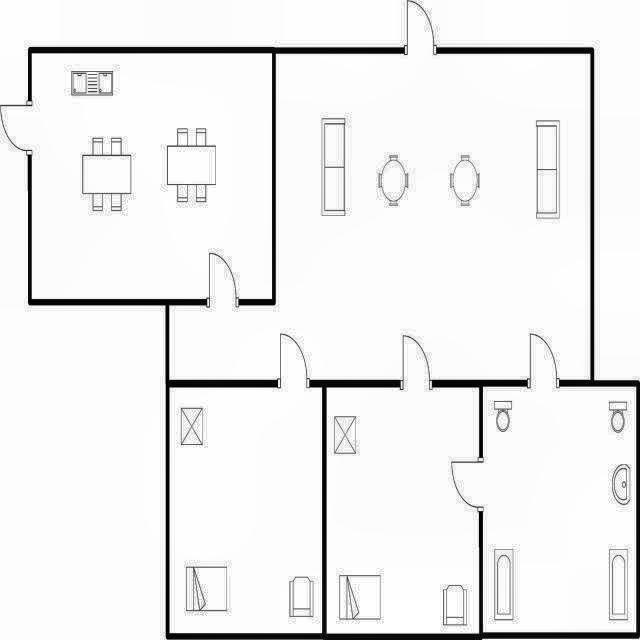room: (169, 53, 590, 380), (31, 54, 273, 298), (483, 386, 637, 632), (169, 387, 322, 632), (327, 388, 479, 634)
